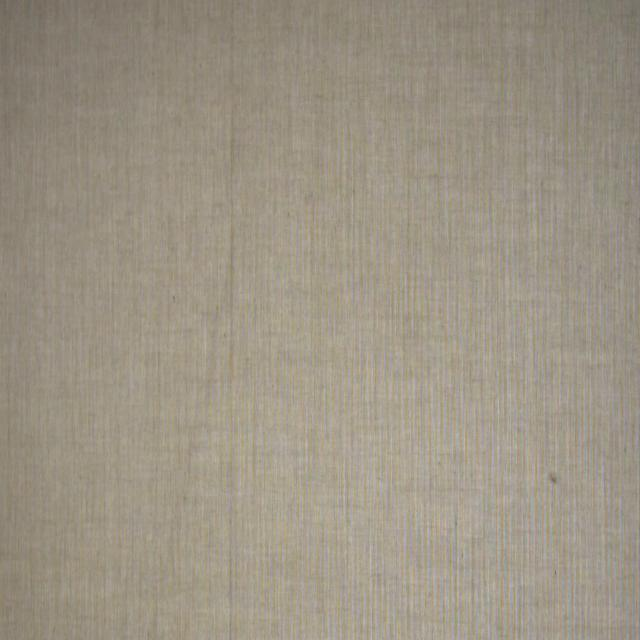dirty: (550, 473, 557, 481)
